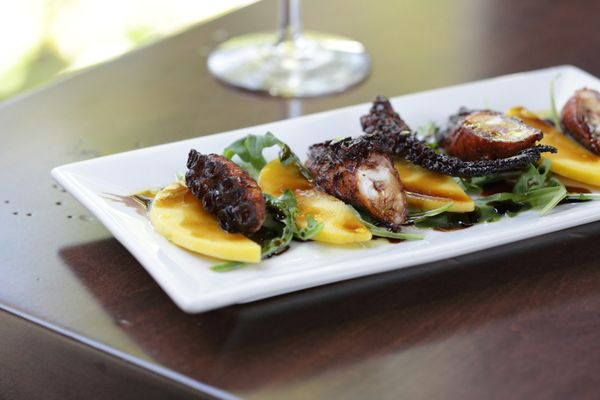curry: (1, 1, 593, 391)
sandwich: (208, 1, 371, 97)
